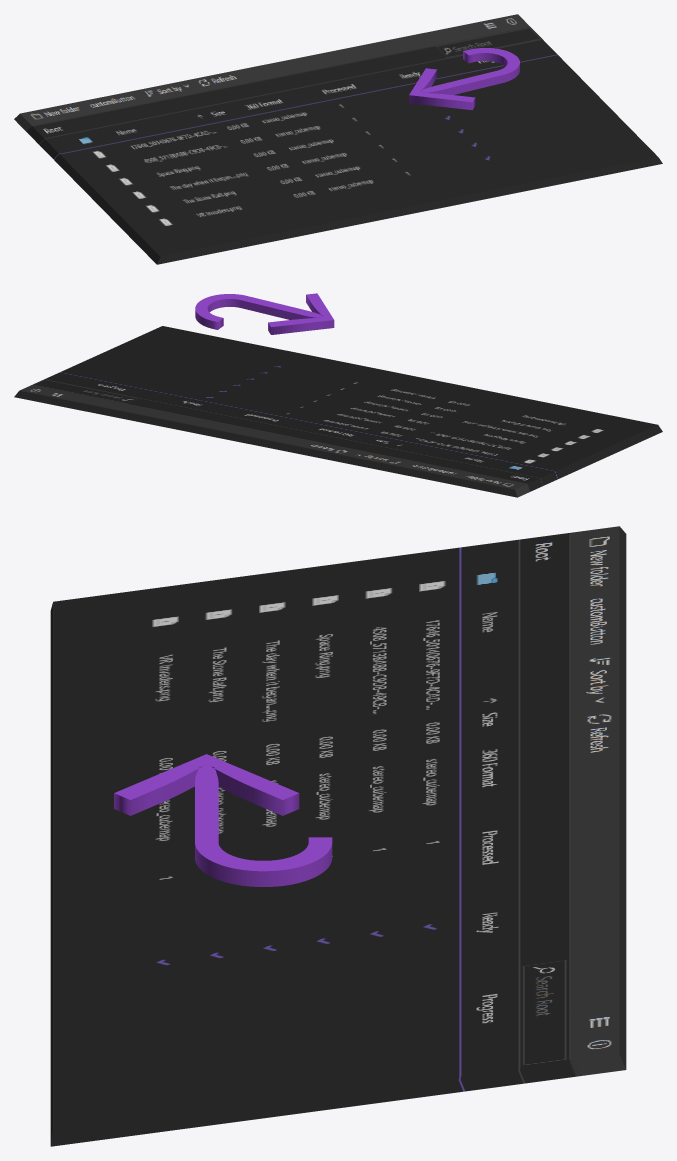
Rendered from 2dIcon.glb.
3 renders of one model, top to bottom at view 1: azimuth 30°, elevation 25°; view 2: azimuth 150°, elevation 25°; view 3: azimuth 270°, elevation 25°, orthographic. The views are drawn at different scales.
Visible parts, largest first — view 1: Plane, Text; view 2: Plane, Text; view 3: Plane, Text.
Part boxes in pixels (box(x1,y1,x2,y2)): Plane: box(14, 14, 662, 264); Text: box(409, 48, 519, 110); Plane: box(14, 326, 662, 497); Text: box(195, 293, 334, 334); Plane: box(50, 526, 626, 1146); Text: box(114, 754, 332, 886).
Bounding box in the file's own units: 4.01 × 0.6977 × 1.98.
2 materials, 1 textured.
